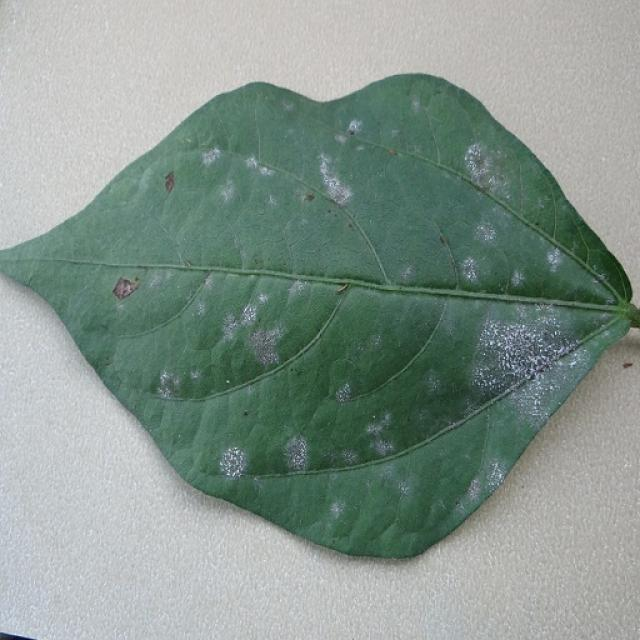Blackgram: (0, 75, 639, 555)
Powdery_Mildew: (215, 384, 430, 519), (163, 274, 344, 415), (441, 138, 556, 289), (203, 143, 343, 221), (470, 309, 579, 395), (214, 286, 284, 360), (498, 361, 571, 428), (450, 458, 500, 521), (317, 155, 352, 205), (463, 142, 498, 189), (250, 323, 285, 367), (208, 445, 252, 479), (375, 460, 408, 499), (482, 326, 518, 360), (218, 445, 248, 478), (283, 436, 310, 470), (365, 413, 394, 444), (482, 461, 506, 494), (156, 370, 179, 399), (239, 301, 260, 329), (220, 312, 240, 341), (459, 257, 481, 283), (244, 155, 271, 175), (560, 350, 584, 371), (466, 142, 487, 165), (373, 437, 394, 458), (475, 223, 497, 243), (590, 265, 612, 285), (147, 270, 166, 291), (546, 247, 563, 270), (335, 382, 353, 403), (219, 181, 236, 203), (465, 478, 482, 500), (202, 147, 221, 166), (287, 280, 307, 298), (340, 448, 359, 466), (425, 376, 441, 396), (535, 301, 557, 315), (330, 500, 345, 519), (397, 478, 412, 496), (510, 270, 525, 287), (348, 119, 362, 134), (402, 264, 415, 280), (201, 272, 214, 287), (538, 196, 550, 212), (282, 98, 295, 112), (370, 334, 382, 349), (492, 470, 504, 485), (334, 133, 348, 145), (196, 301, 207, 316), (259, 165, 273, 176), (252, 476, 263, 489), (257, 293, 268, 305), (411, 99, 421, 112), (268, 194, 278, 207), (190, 369, 201, 380), (286, 127, 296, 138), (391, 128, 400, 139), (225, 379, 231, 384), (372, 415, 377, 420)
